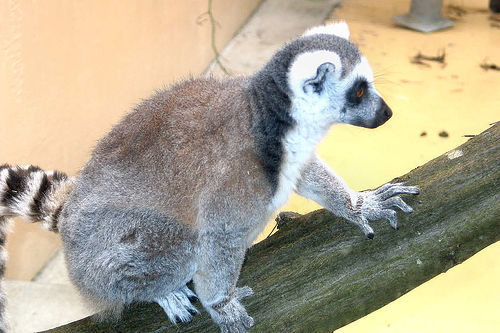cat: (1, 19, 419, 332)
